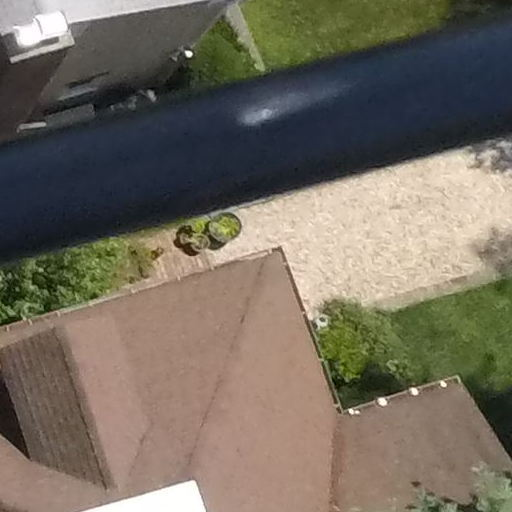container: (312, 310, 330, 328)
flower pot: (208, 210, 245, 244), (188, 234, 212, 255), (176, 228, 194, 248)
